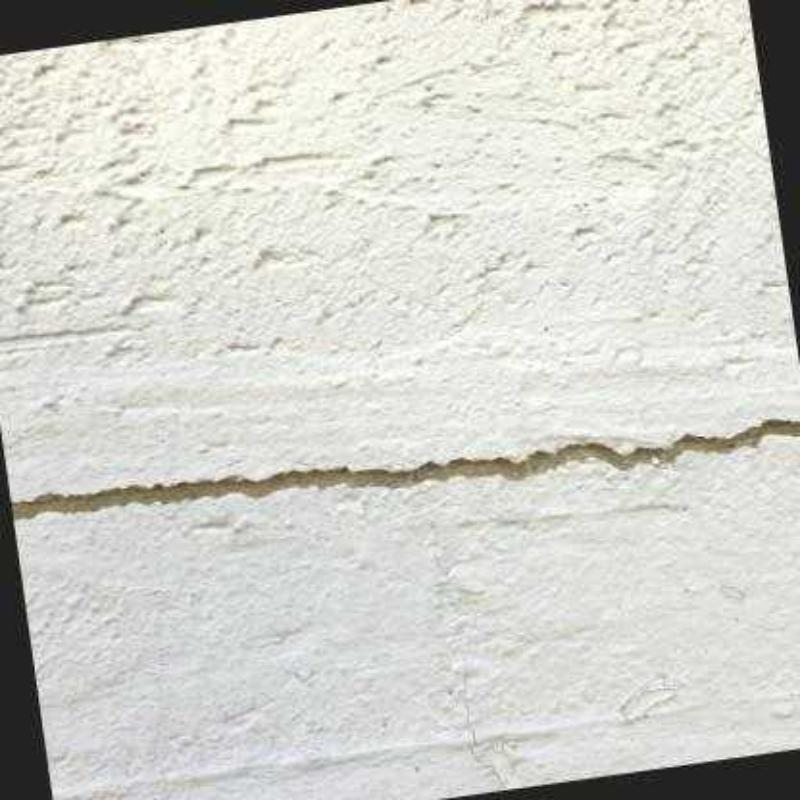pothole: (10, 414, 800, 516)
